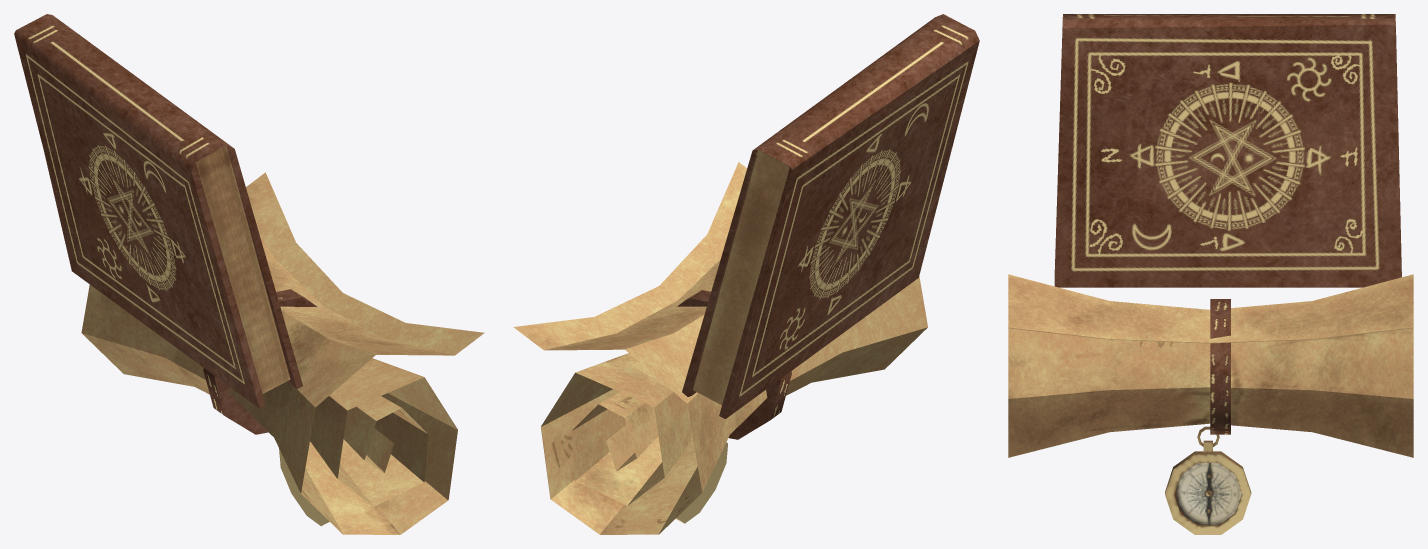
File: HIP_CHIBI_BOOK_MAP.fbx
3 renders of one model, left to right at view 1: azimuth 30°, elevation 25°; view 2: azimuth 150°, elevation 25°; view 3: azimuth 270°, elevation 25°, orthographic. The views are drawn at different scales.
Visible parts, largest first — view 1: HIP_CHIBI_BOOK_MAP; view 2: HIP_CHIBI_BOOK_MAP; view 3: HIP_CHIBI_BOOK_MAP.
Boxes of the visible parts, bbox=[...] form: HIP_CHIBI_BOOK_MAP: bbox=[14, 14, 484, 534]; HIP_CHIBI_BOOK_MAP: bbox=[513, 14, 979, 534]; HIP_CHIBI_BOOK_MAP: bbox=[1008, 14, 1413, 534].
Bounding box in the file's own units: 0.0141 × 0.0242 × 0.0204.
